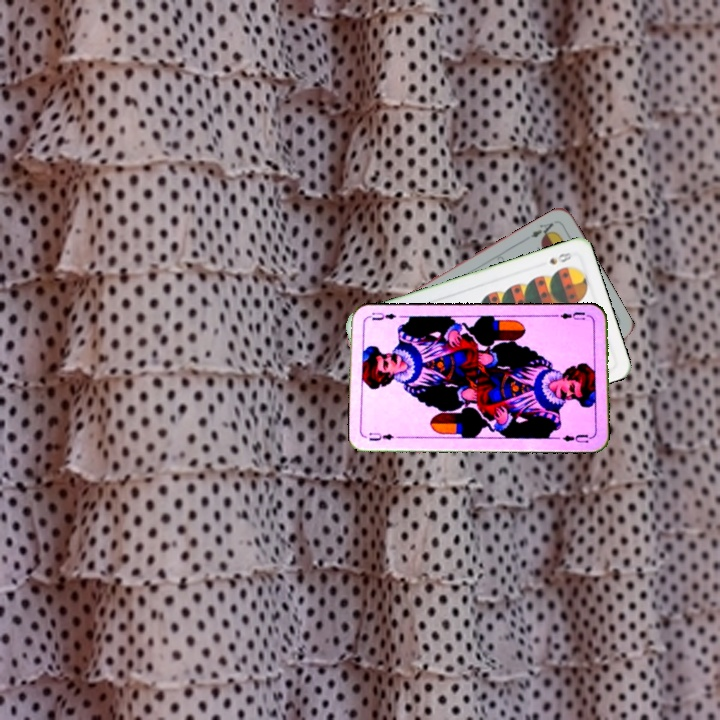EA: (527, 219, 558, 242)
EU: (365, 428, 396, 444), (552, 308, 587, 322)
S8: (545, 248, 574, 267)
